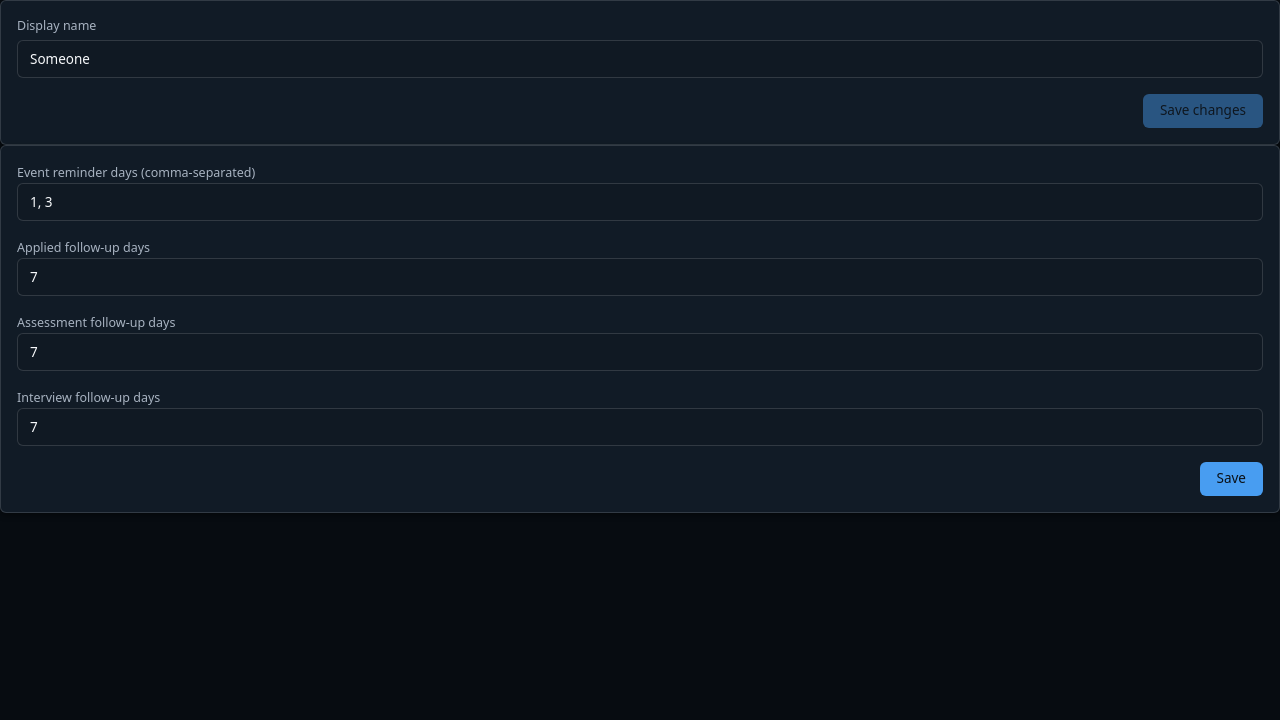
Settings page › save button becomes disabled again when reverted
Replace the text in the field labelled "Display name" with "Someone2" at (640, 59), box [17,40,1263,78]
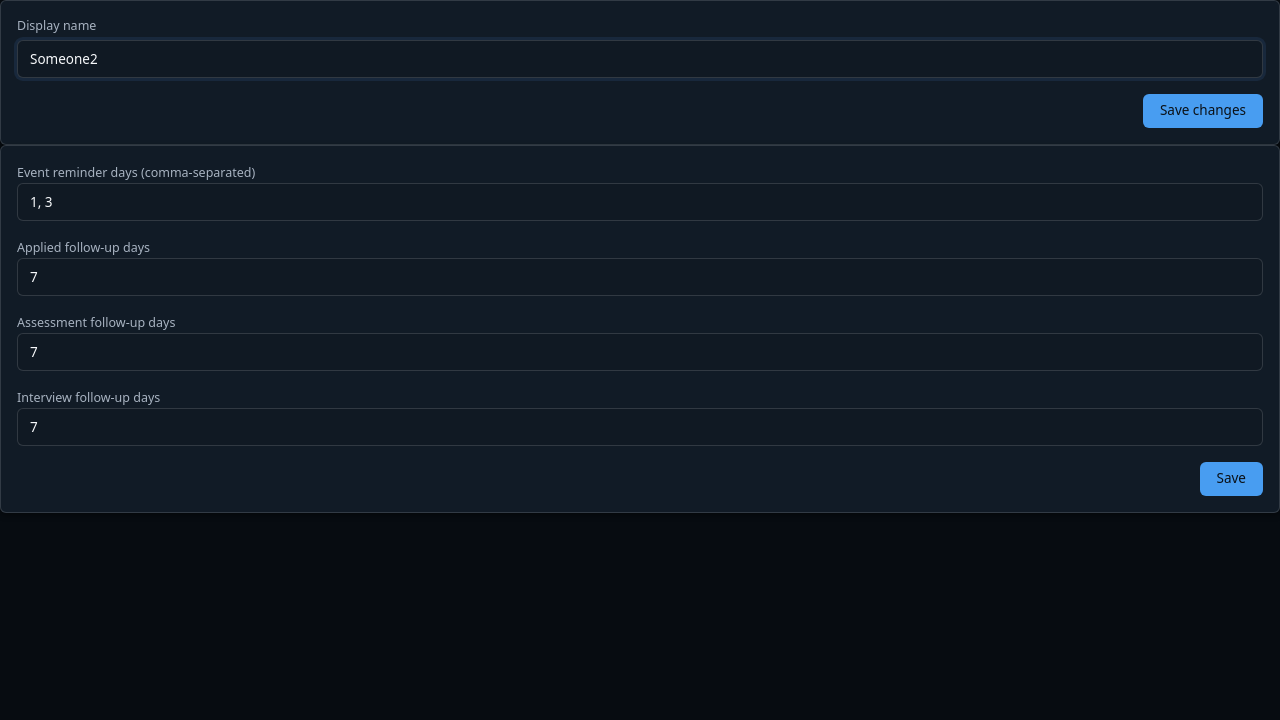
expect the button "Save changes" is enabled: met, box [1143,94,1263,128]
Replace the text in the field labelled "Display name" with "Someone" at (640, 59), box [17,40,1263,78]
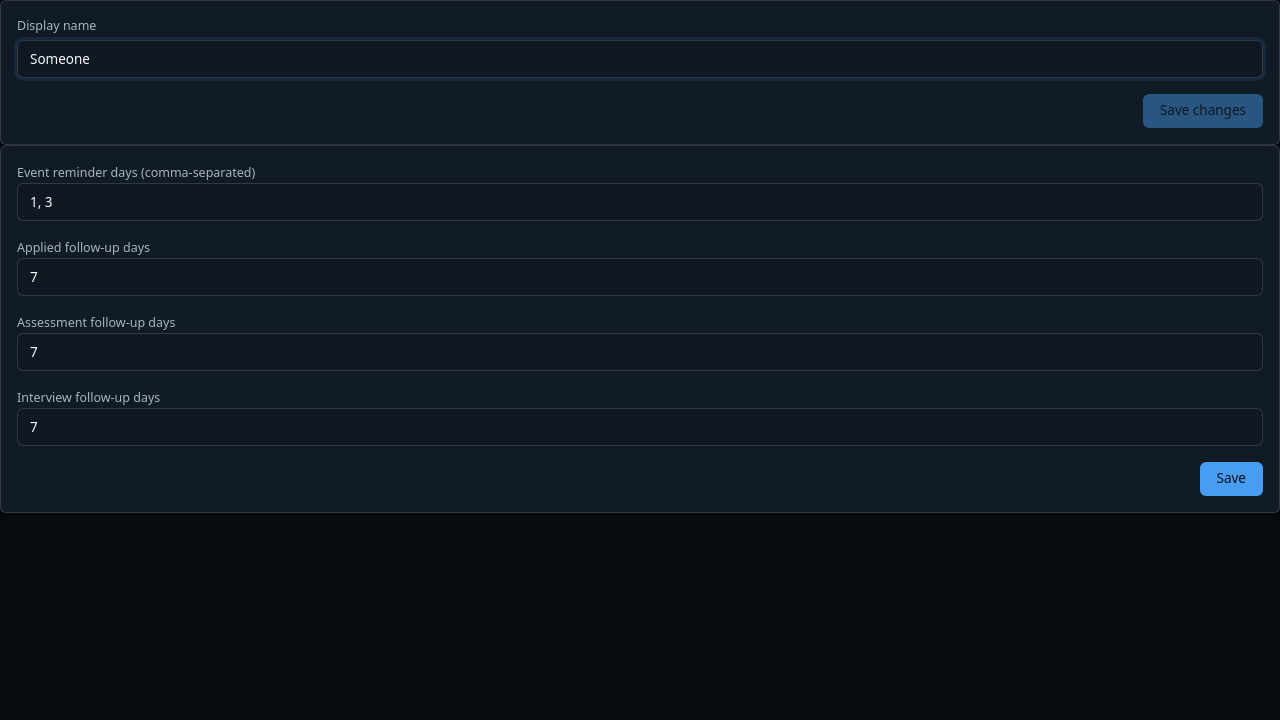
expect the button "Save changes" is disabled: met, box [1143,94,1263,128]
